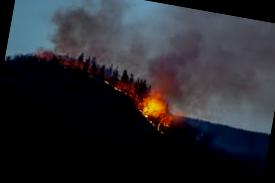fire: (131, 90, 169, 121)
